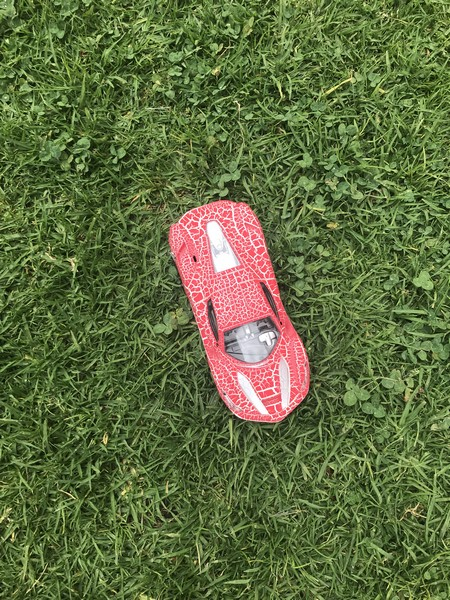RC: (167, 198, 313, 428)
